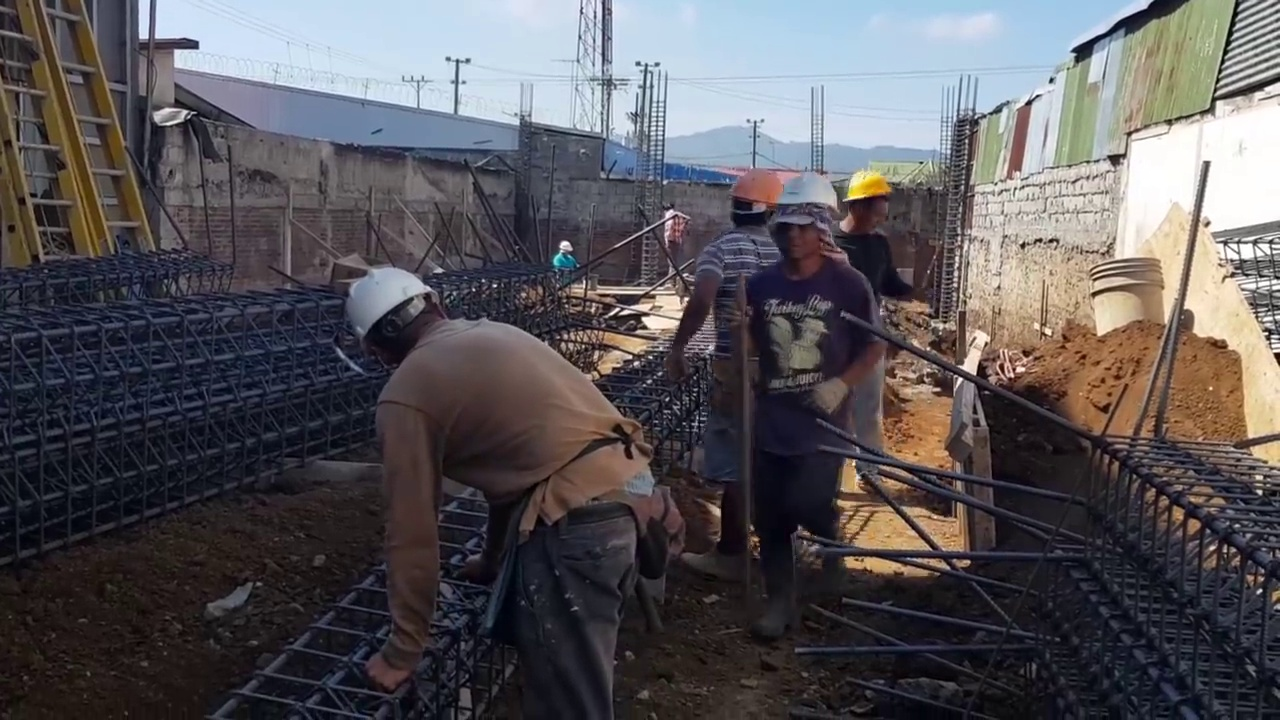helmet: (340, 269, 432, 355), (780, 170, 838, 213), (726, 169, 782, 206), (842, 169, 895, 205), (559, 241, 574, 252)
helmet-off: (657, 201, 674, 213)
helmet-on: (337, 261, 458, 377), (768, 170, 837, 282), (845, 169, 901, 243), (726, 169, 784, 237), (557, 241, 574, 256)
person: (340, 272, 678, 715), (733, 175, 890, 620), (668, 170, 787, 596), (839, 166, 920, 502), (657, 203, 693, 261), (550, 241, 577, 284)
